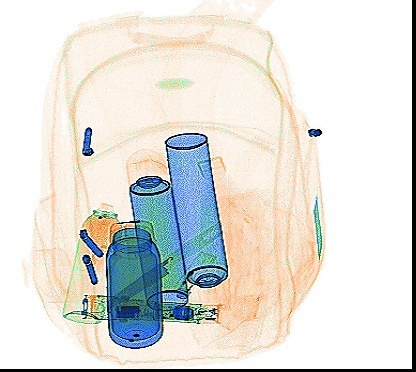knife: (101, 216, 223, 307)
lighter: (169, 250, 216, 298)
pressure: (124, 145, 188, 309), (162, 130, 228, 288), (59, 199, 123, 325)
